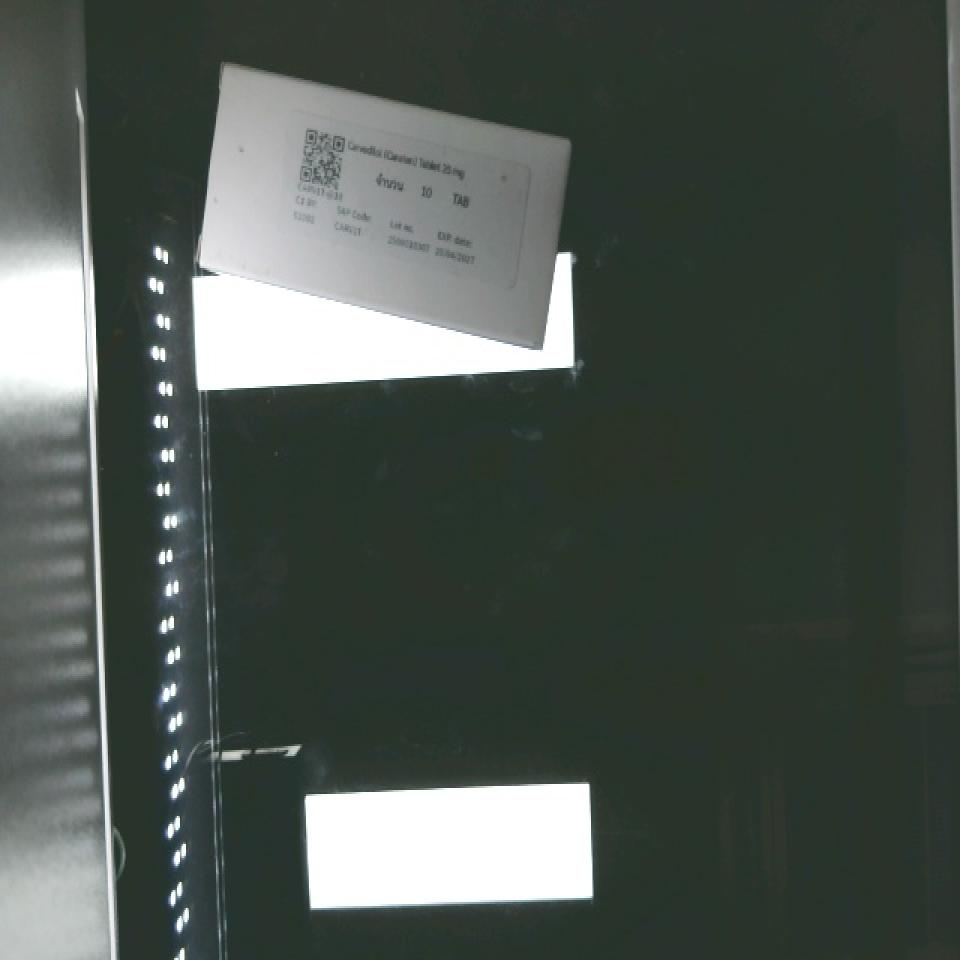medicine_box: (175, 59, 593, 354)
qr_code: (283, 119, 358, 198)
